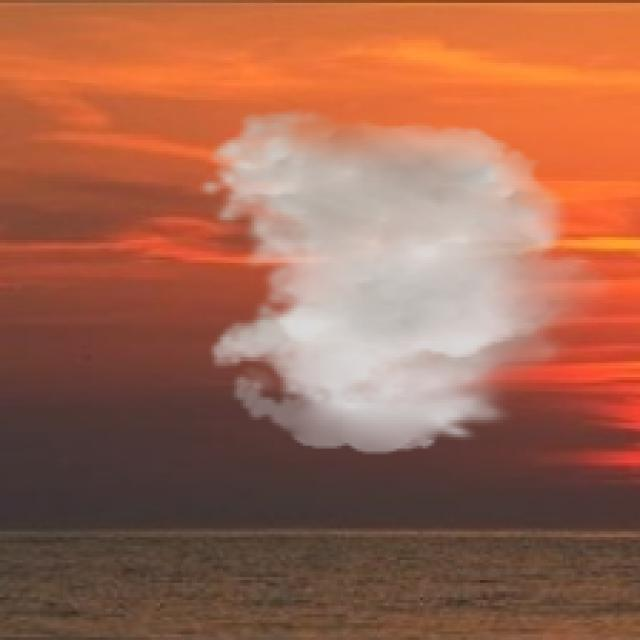Smoke: (197, 108, 623, 454)
